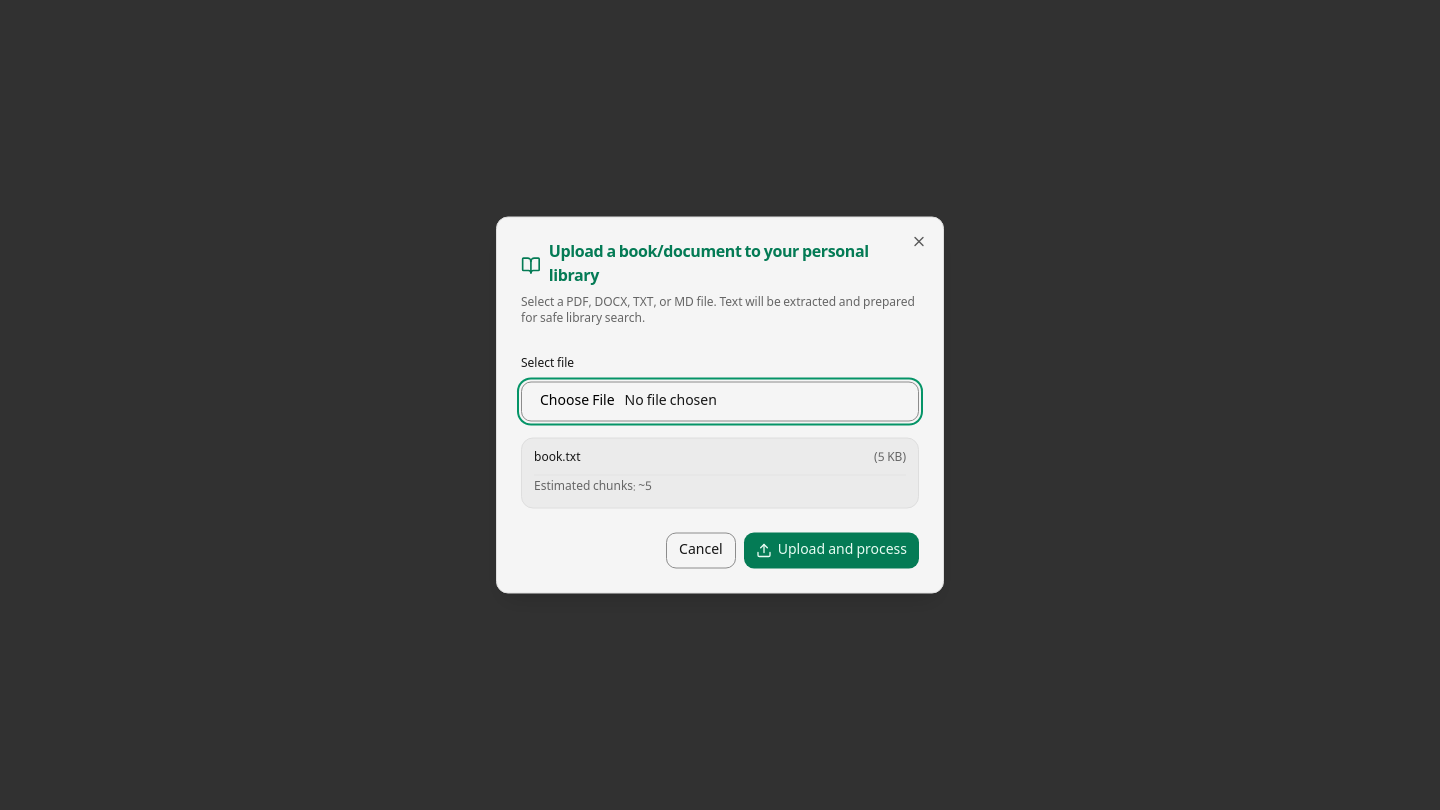
Test: SourceUploadDialog — ingest failure feedback › REGRESSION: the progress card shows the failure instead of sitting at 'Extracting… 0%' forever
The image size is (1440, 810).
Earlier steps of the test are not shown.
Click the button "Upload and process". click: (831, 550)
box: [744, 532, 919, 568]
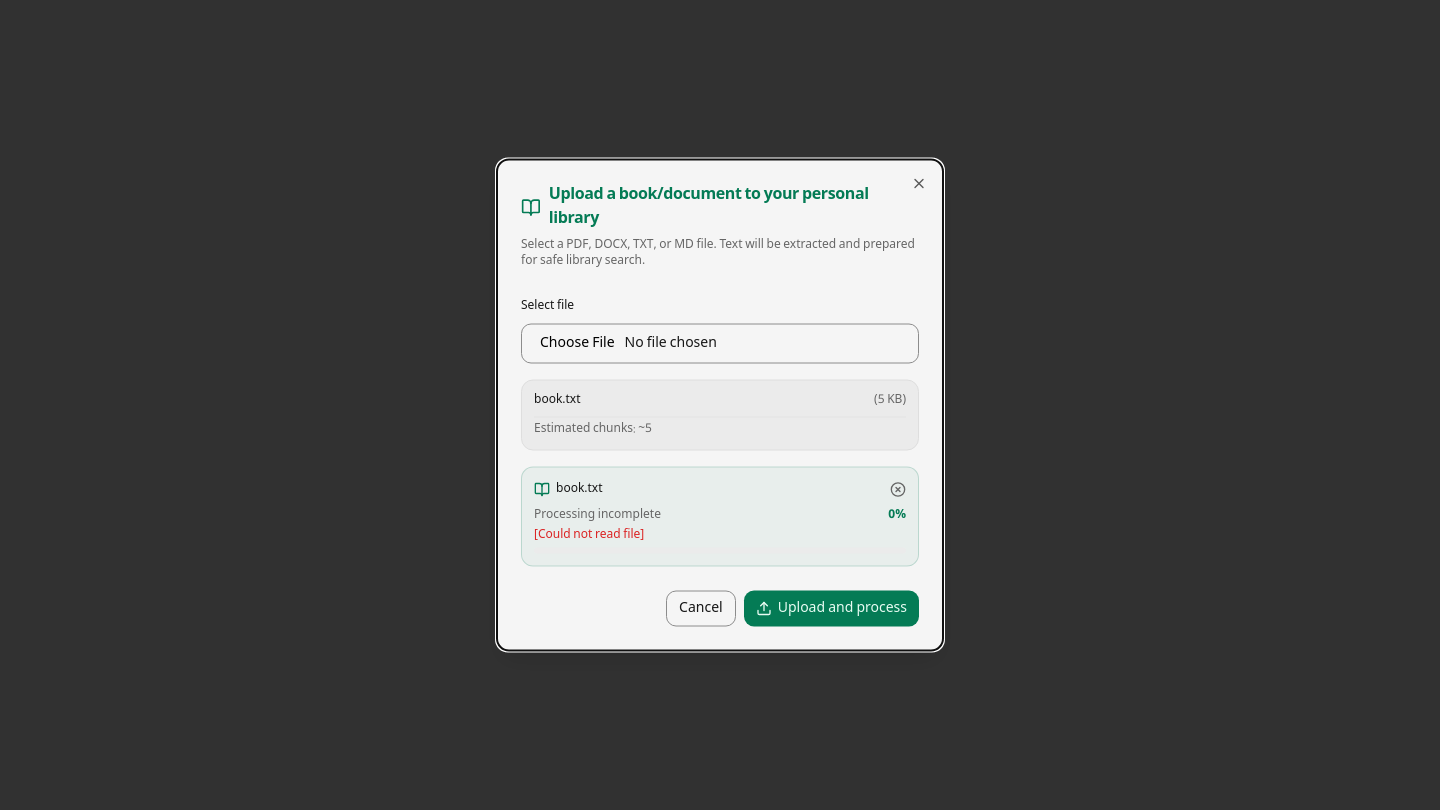
Expected: the text "Processing incomplete" is shown, [534, 508, 661, 524]
Expected: the message reads "[Could not read file]", [534, 524, 644, 546]
